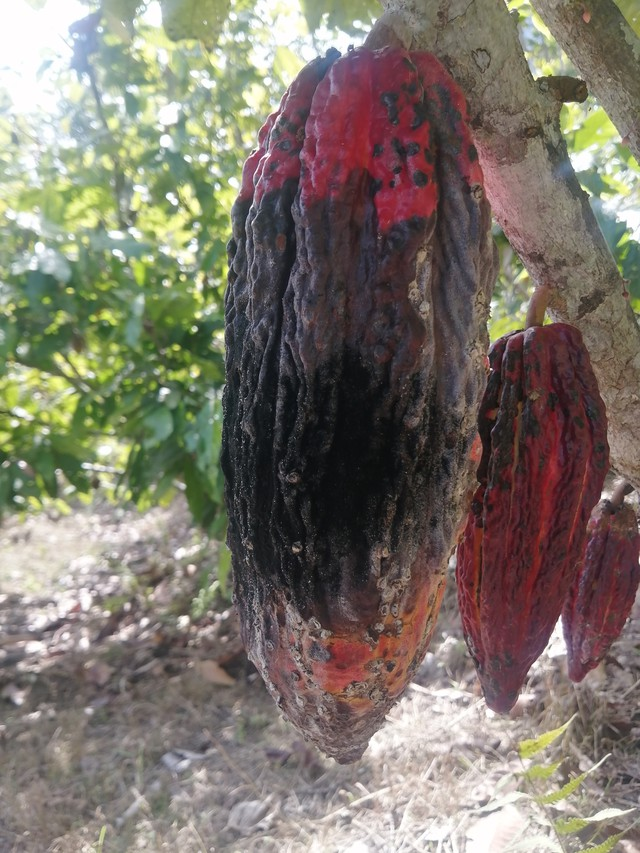moniliophthora roreri: (199, 32, 510, 779), (434, 315, 616, 726)
